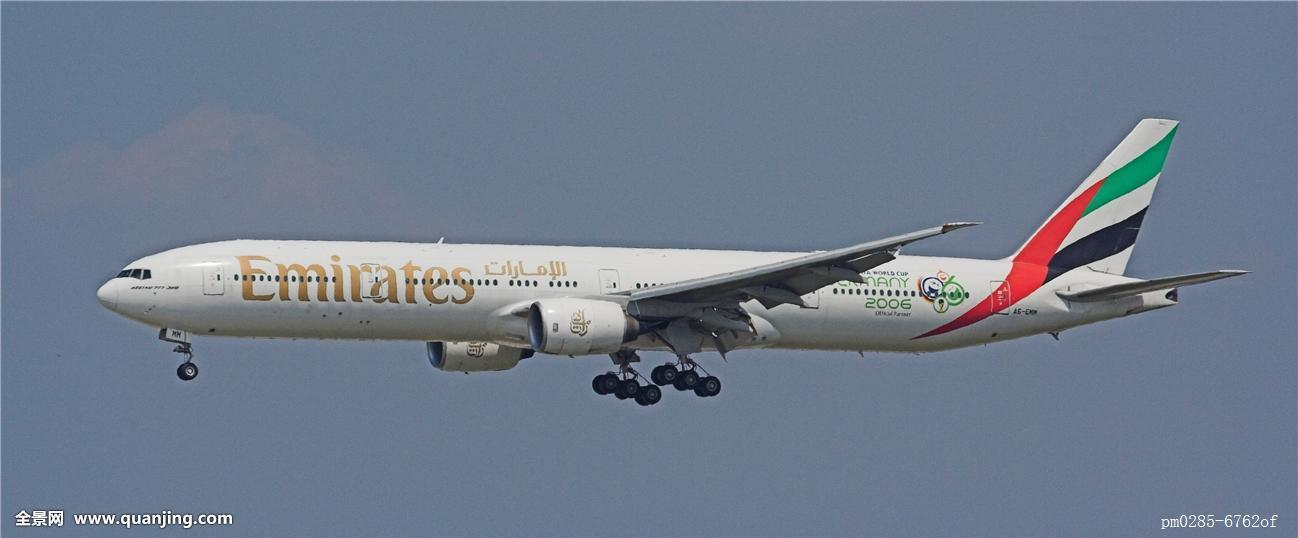airplane: (86, 109, 1240, 401)
